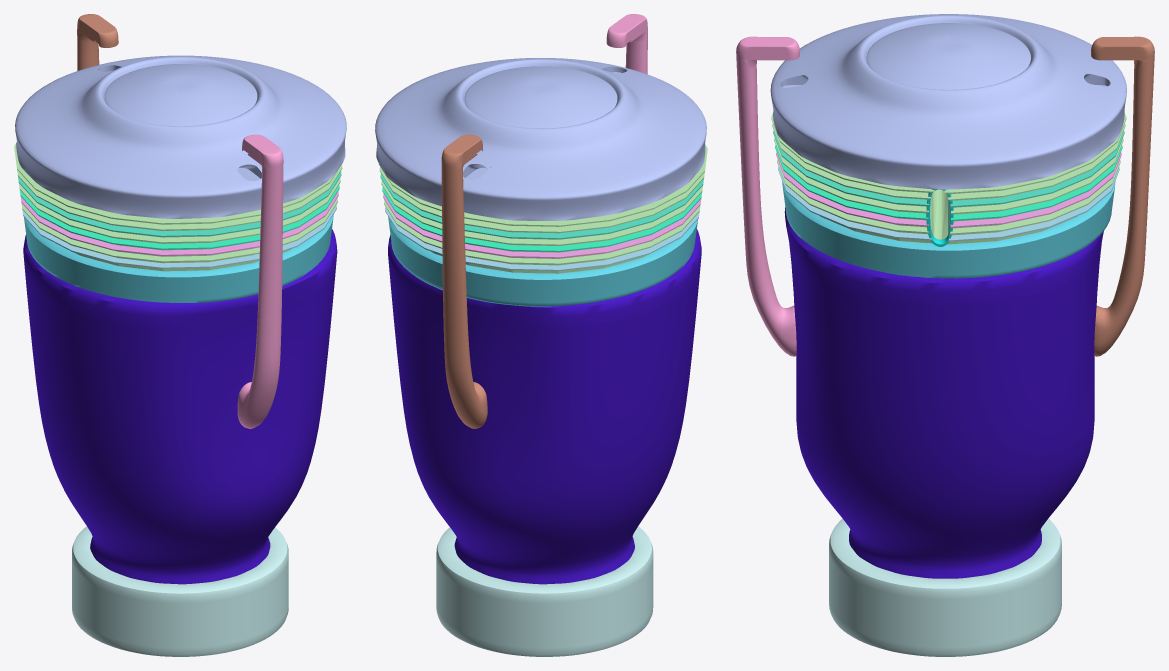
3 views of the same model, side by side, from view 1: azimuth 30°, elevation 25°; view 2: azimuth 150°, elevation 25°; view 3: azimuth 270°, elevation 25° (orthographic). The views are drawn at different scales.
Visible parts, largest first — view 1: pCylinder1_Cristal azul_0, polySurface27_Material_0, pCylinder2_Material_0, split_parent_2, split_parent_7, pCylinder57_Material_0, polySurface26_Material_0.009, split_parent_12, split_parent_13, polySurface26_Material_0.018, split_parent_4; view 2: pCylinder1_Cristal azul_0, polySurface27_Material_0, pCylinder2_Material_0, split_parent_2, split_parent_7, split_parent_4, polySurface26_Material_0.009, split_parent_12, split_parent_13, polySurface26_Material_0.018, pCylinder57_Material_0; view 3: pCylinder1_Cristal azul_0, polySurface27_Material_0, pCylinder2_Material_0, split_parent_2, split_parent_7, pCylinder57_Material_0, split_parent_4, polySurface26_Material_0.009, polySurface26_Material_0.018, split_parent_12, split_parent_13.
Part boxes in pixels (<box>): pCylinder1_Cristal azul_0: <box>23,229,337,584</box>; polySurface27_Material_0: <box>15,55,346,218</box>; pCylinder2_Material_0: <box>72,526,288,656</box>; split_parent_2: <box>24,214,333,302</box>; split_parent_7: <box>14,143,342,271</box>; pCylinder57_Material_0: <box>237,134,283,428</box>; polySurface26_Material_0.009: <box>18,171,341,236</box>; split_parent_12: <box>20,184,339,249</box>; split_parent_13: <box>20,191,338,255</box>; polySurface26_Material_0.018: <box>22,204,336,268</box>; split_parent_4: <box>77,14,118,70</box>; pCylinder1_Cristal azul_0: <box>388,229,701,584</box>; polySurface27_Material_0: <box>375,58,706,220</box>; pCylinder2_Material_0: <box>436,526,653,656</box>; split_parent_2: <box>388,216,697,306</box>; split_parent_7: <box>378,145,707,273</box>; split_parent_4: <box>441,134,487,428</box>; polySurface26_Material_0.009: <box>380,174,703,239</box>; split_parent_12: <box>382,187,702,251</box>; split_parent_13: <box>383,193,701,258</box>; polySurface26_Material_0.018: <box>385,207,699,270</box>; pCylinder57_Material_0: <box>606,14,647,74</box>; pCylinder1_Cristal azul_0: <box>784,207,1103,578</box>; polySurface27_Material_0: <box>770,14,1126,189</box>; pCylinder2_Material_0: <box>829,518,1061,656</box>; split_parent_2: <box>782,181,1115,278</box>; split_parent_7: <box>771,113,1126,244</box>; pCylinder57_Material_0: <box>736,36,799,356</box>; split_parent_4: <box>1091,36,1154,356</box>; polySurface26_Material_0.009: <box>773,130,1124,207</box>; polySurface26_Material_0.018: <box>778,166,1119,241</box>; split_parent_12: <box>775,145,1122,220</box>; split_parent_13: <box>776,152,1121,227</box>.
Size of the model in its own units: 0.572 by 1 by 0.6676.
